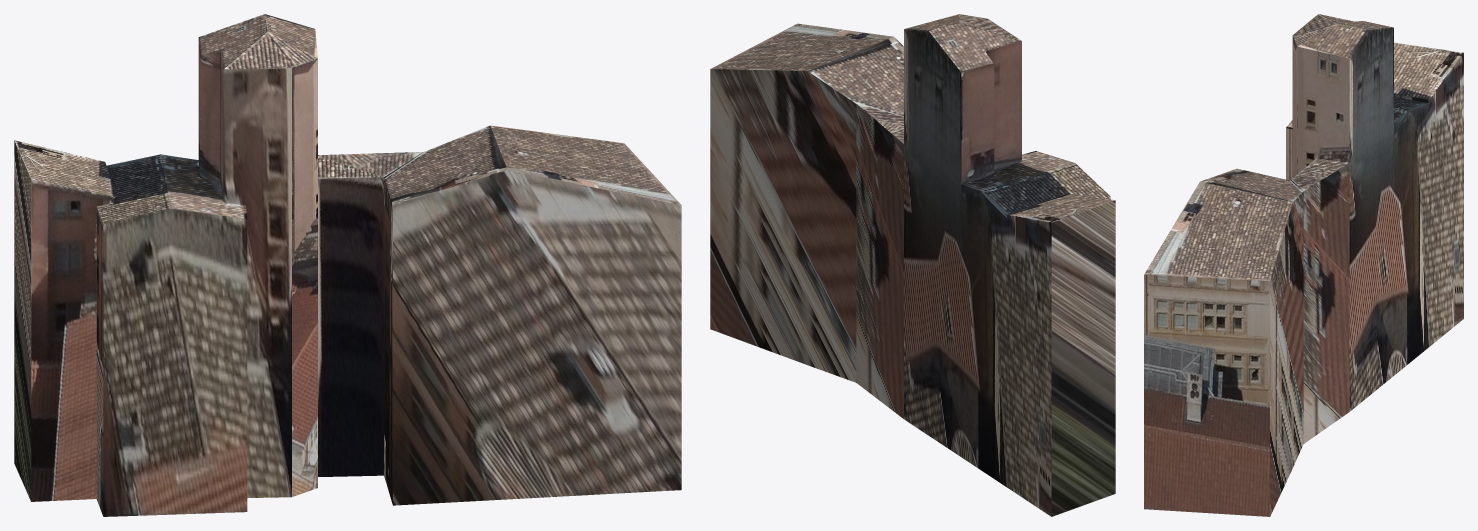
3 renders of one model, left to right at view 1: azimuth 30°, elevation 25°; view 2: azimuth 150°, elevation 25°; view 3: azimuth 270°, elevation 25°, orthographic. The views are drawn at different scales.
Parts seen in each view (by area): view 1: Z_UP; view 2: Z_UP; view 3: Z_UP.
Boxes of the visible parts, box(x1,y1,x2,y2) form: Z_UP: box(14, 14, 681, 516); Z_UP: box(710, 14, 1115, 516); Z_UP: box(1144, 14, 1463, 516).
Size of the model in its own units: 32.64 by 26.71 by 21.13.
Materials: 2 (1 with a texture image).
